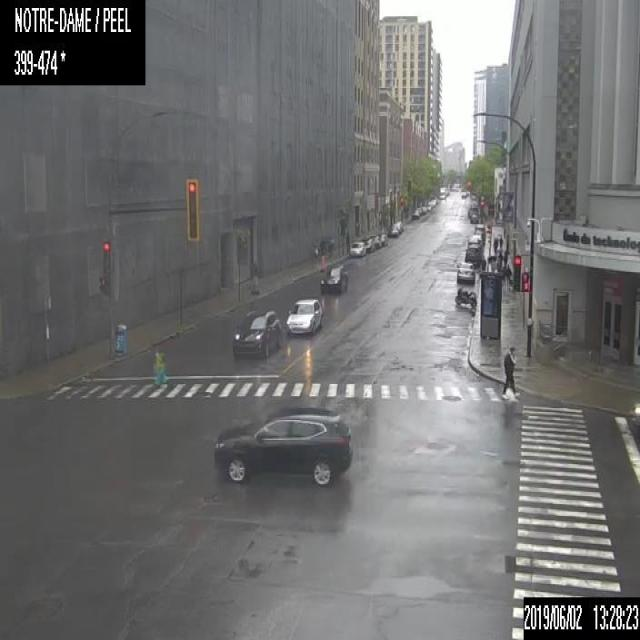construction: (319, 253, 325, 272)
pedestrian: (498, 344, 522, 400), (152, 349, 165, 388), (487, 254, 496, 271), (478, 253, 486, 272), (505, 263, 511, 287), (502, 250, 508, 267), (312, 244, 317, 263), (493, 236, 498, 254), (496, 256, 501, 274), (498, 250, 502, 265), (499, 233, 502, 250)
vehicle: (211, 403, 354, 485), (231, 309, 283, 361), (285, 295, 322, 337), (319, 264, 348, 295), (453, 285, 477, 307), (456, 260, 475, 283), (464, 245, 482, 263), (349, 240, 366, 257), (467, 233, 482, 250), (362, 238, 374, 251), (390, 220, 400, 235), (369, 235, 381, 247), (474, 222, 485, 234), (377, 233, 387, 245), (468, 206, 478, 217), (469, 212, 478, 223), (411, 209, 420, 218), (420, 205, 426, 212)
